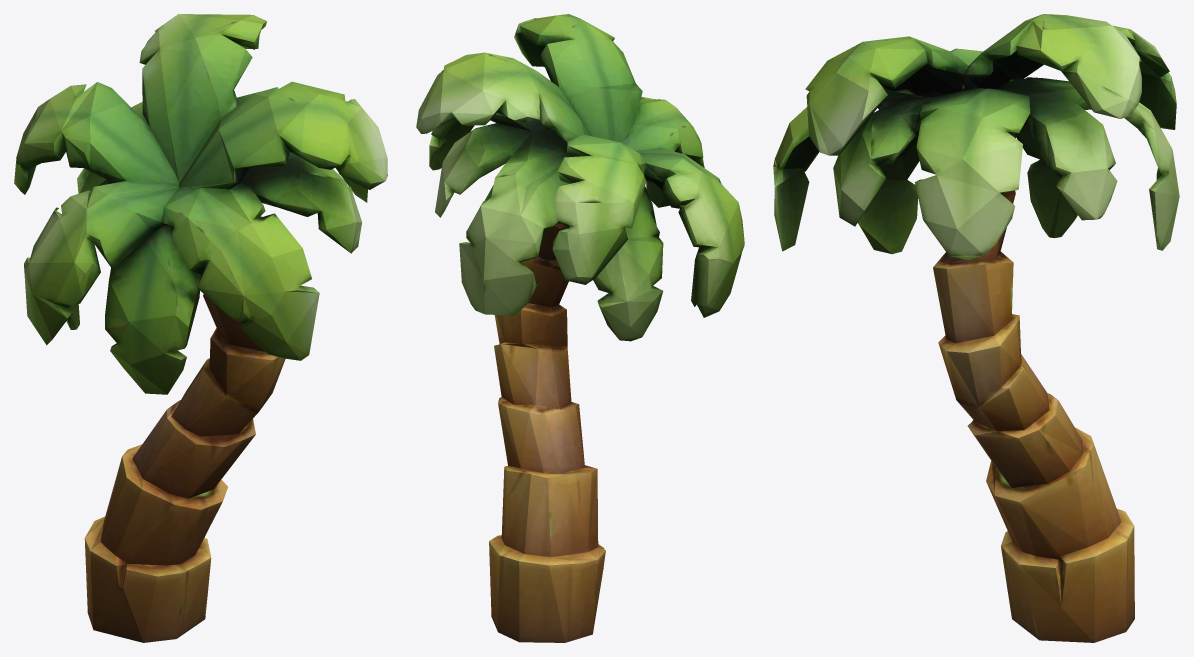
Rendered from palm.glb.
3 renders of one model, left to right at view 1: azimuth 30°, elevation 25°; view 2: azimuth 150°, elevation 25°; view 3: azimuth 270°, elevation 25°, orthographic. The views are drawn at different scales.
Parts seen in each view (by area): view 1: geometry_0; view 2: geometry_0; view 3: geometry_0.
Part boxes in pixels (x1=…): geometry_0: x1=14, y1=14, x2=387, y2=642; geometry_0: x1=416, y1=14, x2=744, y2=642; geometry_0: x1=773, y1=14, x2=1179, y2=642.
Size of the model in its own units: 0.505 by 0.8744 by 0.511.
Materials: 1 (1 with a texture image).
